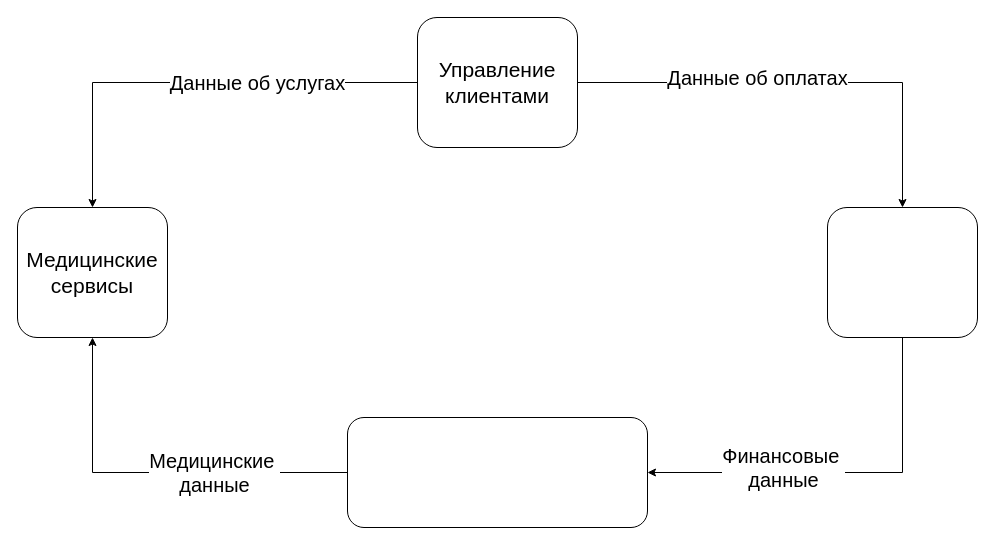
Some shapes in this 995 by 545 pixel diagram are drawn without their labels. Here are the shapes that lost their labels. From the top down, the centre of each, then its label:
At point 902,272: "Финансовые операции".
At point 497,472: "Аналитический центр".
